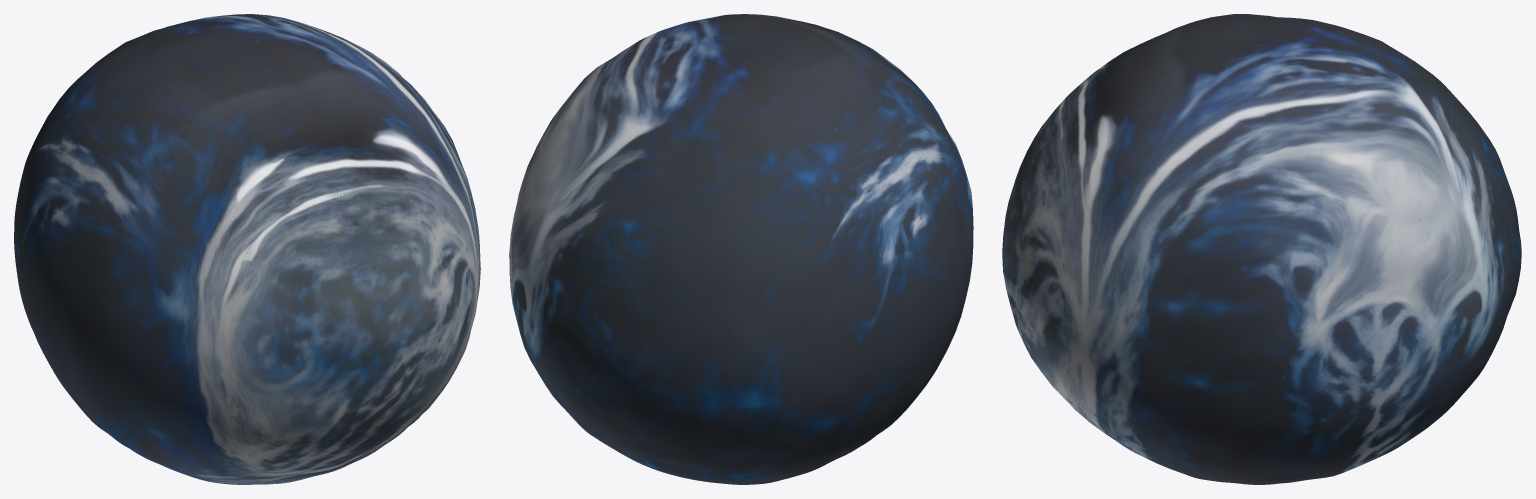
The model's file is Molten_Earth_0809003511_texture-CPry85zS.glb.
3 renders of one model, left to right at view 1: azimuth 30°, elevation 25°; view 2: azimuth 150°, elevation 25°; view 3: azimuth 270°, elevation 25°, orthographic.
Size of the model in its own units: 1.53 by 1.56 by 1.74.
1 material, 1 textured.
